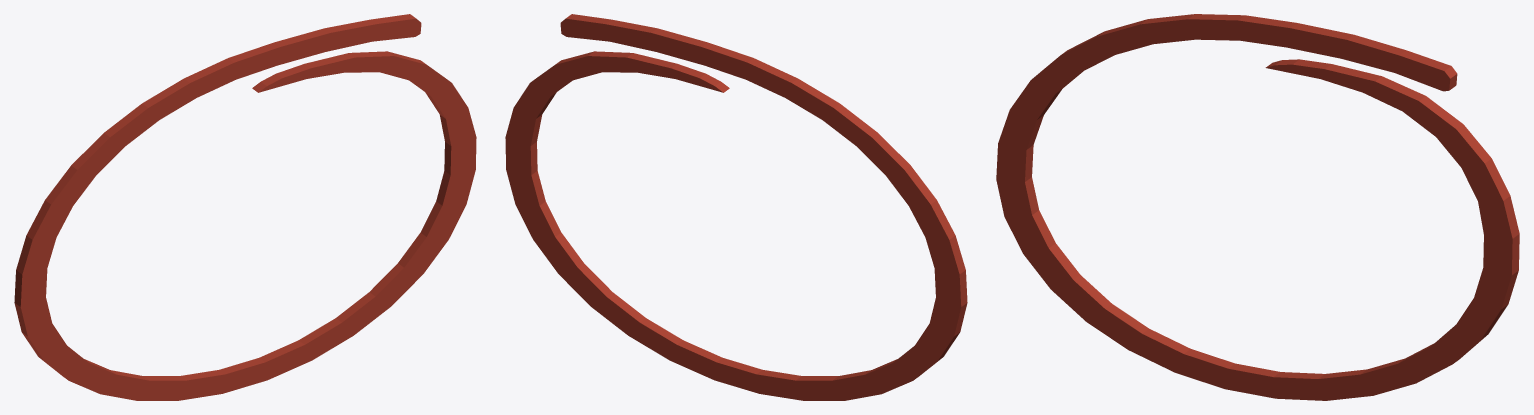
Rendered from SM_Icon_Error_Circle_01.fbx.
3 renders of one model, left to right at view 1: azimuth 30°, elevation 25°; view 2: azimuth 150°, elevation 25°; view 3: azimuth 330°, elevation 25°, orthographic. The views are drawn at different scales.
Visible parts, largest first — view 1: SM_Icon_Error_Circle_01; view 2: SM_Icon_Error_Circle_01; view 3: SM_Icon_Error_Circle_01.
Boxes of the visible parts, bbox=[...] form: SM_Icon_Error_Circle_01: bbox=[14, 14, 476, 400]; SM_Icon_Error_Circle_01: bbox=[505, 14, 967, 400]; SM_Icon_Error_Circle_01: bbox=[996, 14, 1519, 400].
Bounding box in the file's own units: 71.61 × 50.24 × 1.71.
